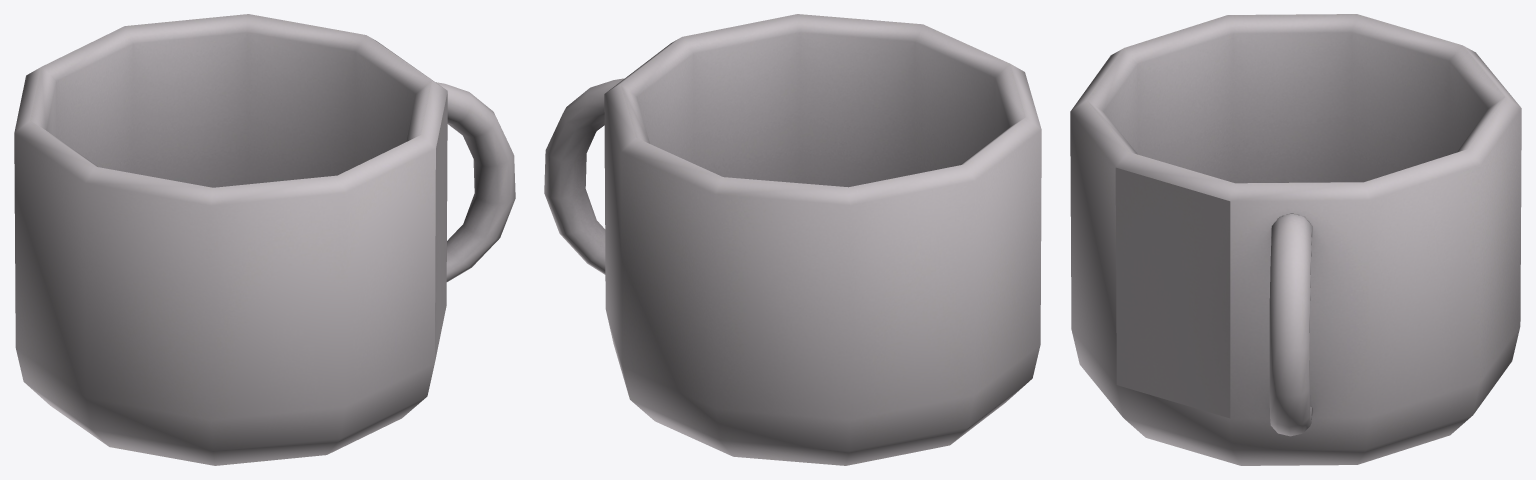
Rendered from frl_apartment_cup_01.glb.
The picture shows the model from 3 angles, left to right: view 1: azimuth 30°, elevation 25°; view 2: azimuth 150°, elevation 25°; view 3: azimuth 270°, elevation 25°; orthographic projection.
Visible parts, largest first — view 1: frl_apartment_cup_01; view 2: frl_apartment_cup_01; view 3: frl_apartment_cup_01.
Boxes of the visible parts, <box> form: frl_apartment_cup_01: <box>14,14,515,465</box>; frl_apartment_cup_01: <box>544,14,1041,465</box>; frl_apartment_cup_01: <box>1070,14,1521,465</box>.
Size of the model in its own units: 0.1334 by 0.079 by 0.111.
Materials: 1 (1 with a texture image).
